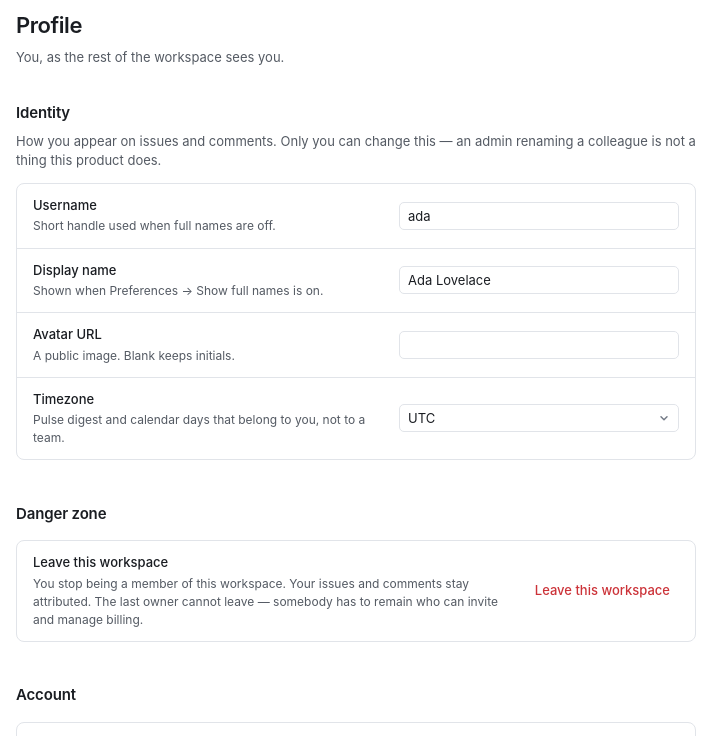
Test: Profile names › refuses an emptied username and puts the value back
The width and height of the screenshot is (713, 736).
Clear the field named "Username" in the row of "Username" at (539, 216), box top-left (408, 202), bottom-right (670, 228)
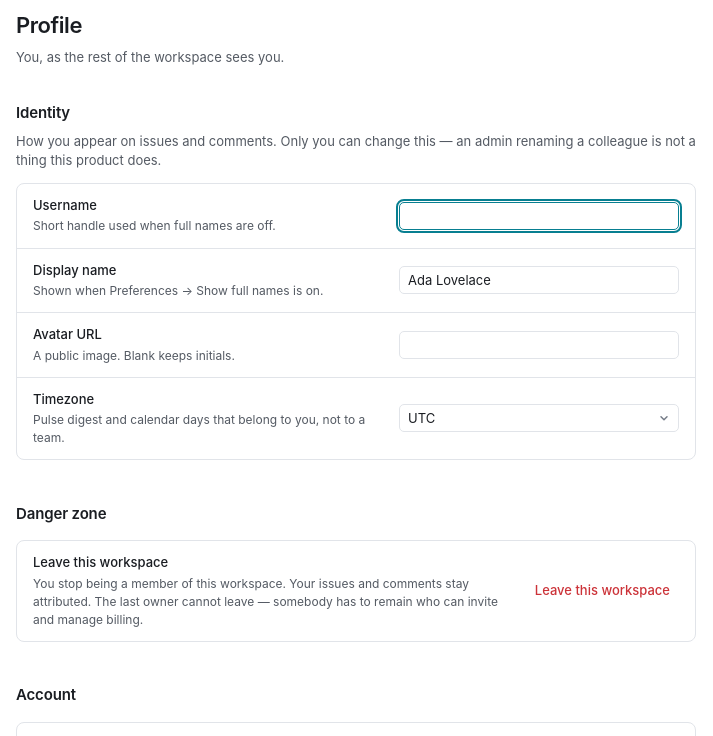
Press Tab
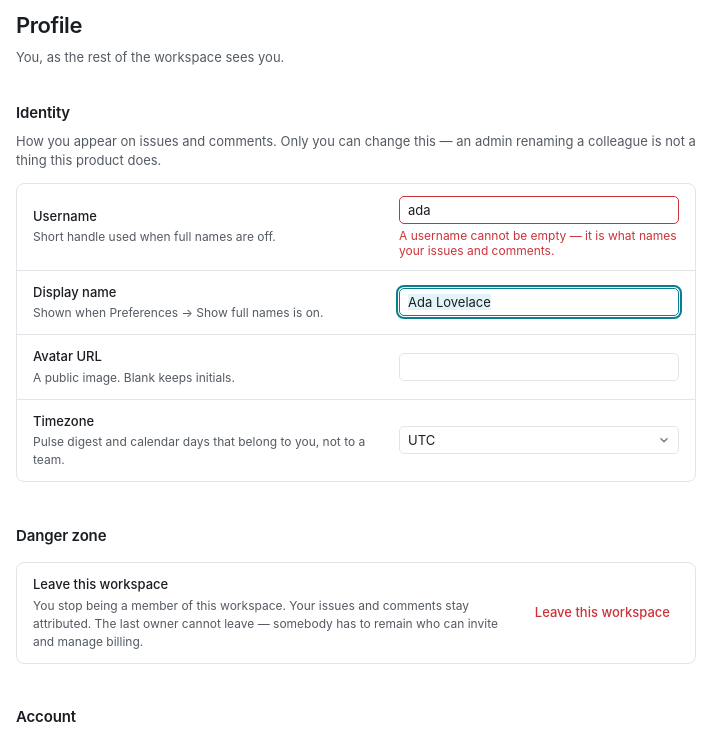
Expected: the message shows "cannot be empty", top-left (399, 228), bottom-right (677, 258)
Expected: the 1st field named "Username" holds "ada", top-left (408, 196), bottom-right (670, 222)
